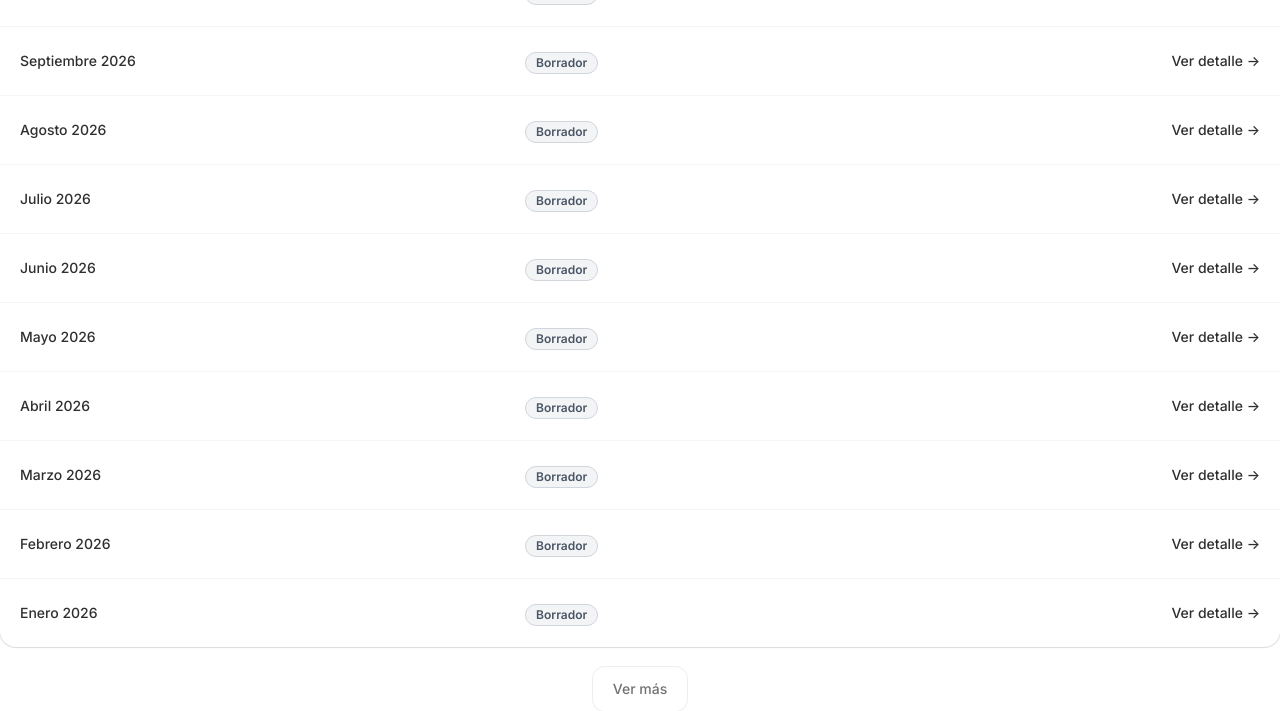
AthleteNewslettersTabPanel — paginación › 'Ver más' carga el siguiente lote al hacer click
This screenshot has width=1280, height=711.
(page scrolled)
Click the button with test id "ver-mas-btn".
click(640, 689)  # box [593,667,687,710]
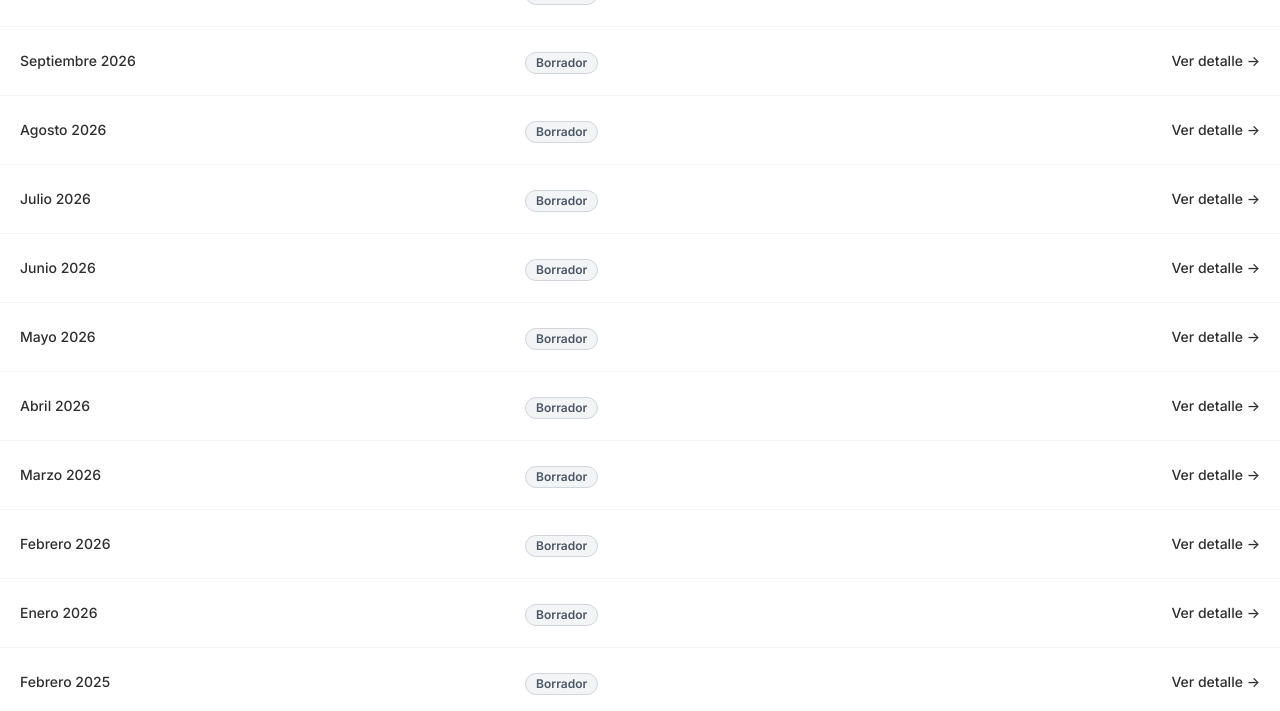
Check: the button with test id "ver-mas-btn" is gone
